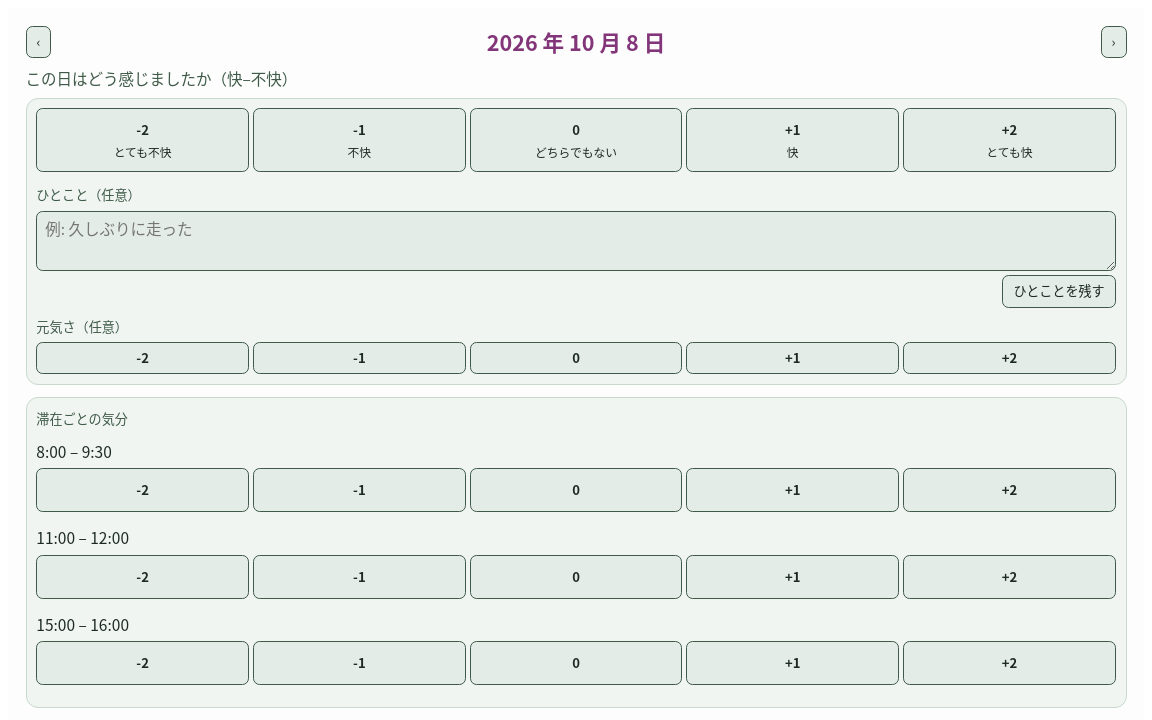
滞在の行 › 2 件目の行の快を押すと、2 件目の識別子と始まり・終わりを持つ快–不快 +1 が 1 件送られる
Expected: the button with test id "valence-1" is shown, top-left (686, 108), bottom-right (899, 172)
Click the button with test id "stay-s2-1" at (793, 577), box top-left (686, 555), bottom-right (899, 599)
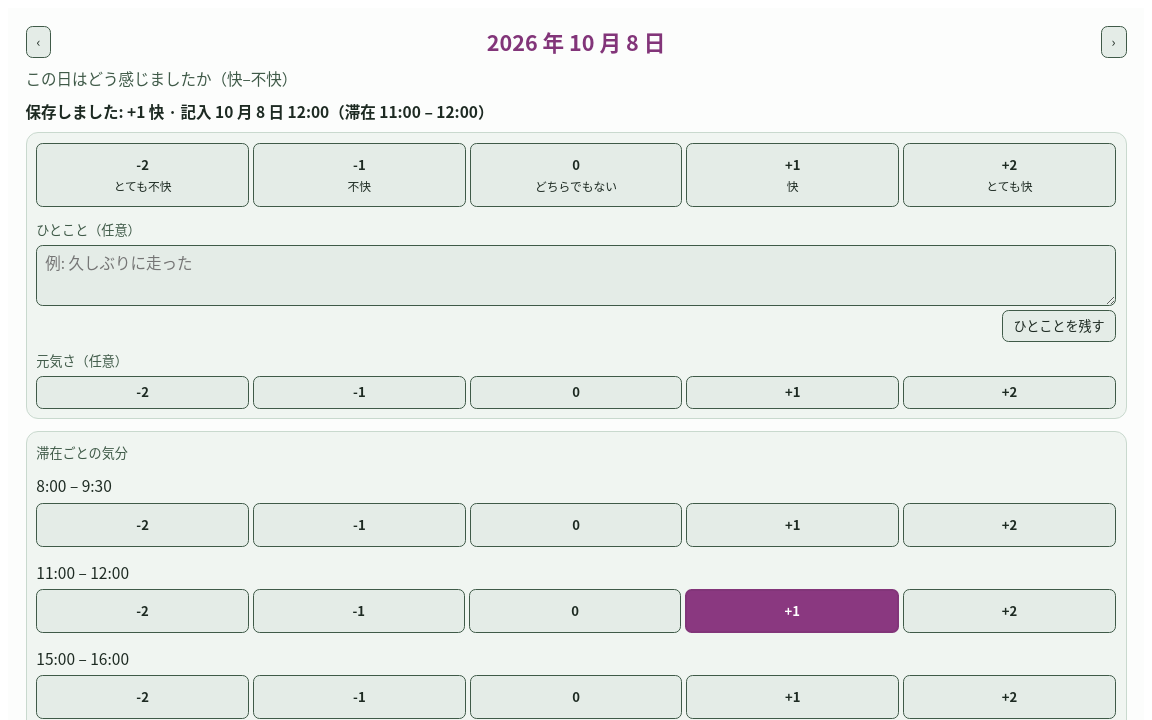
Expected: the text with test id "feel-notice-ok" shows "滞在 11:00 – 12:00", top-left (26, 100), bottom-right (494, 122)
